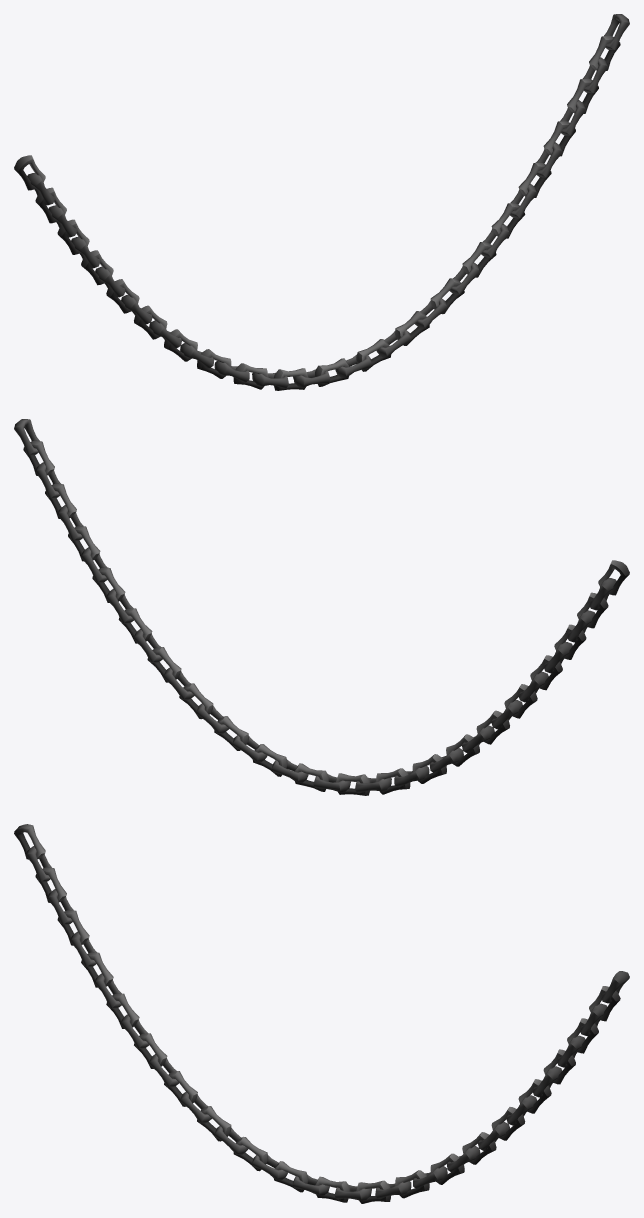
The model's file is Chain_01.glb.
3 renders of one model, top to bottom at view 1: azimuth 30°, elevation 25°; view 2: azimuth 150°, elevation 25°; view 3: azimuth 330°, elevation 25°, orthographic.
Parts seen in each view (by area): view 1: Chain_01; view 2: Chain_01; view 3: Chain_01.
Part boxes in pixels (x1,y1,x2,y2): Chain_01: [14, 14, 629, 390]; Chain_01: [14, 419, 629, 795]; Chain_01: [14, 824, 629, 1203].
Size of the model in its own units: 4.23 by 1.99 by 0.1374.
1 material, 1 textured.
